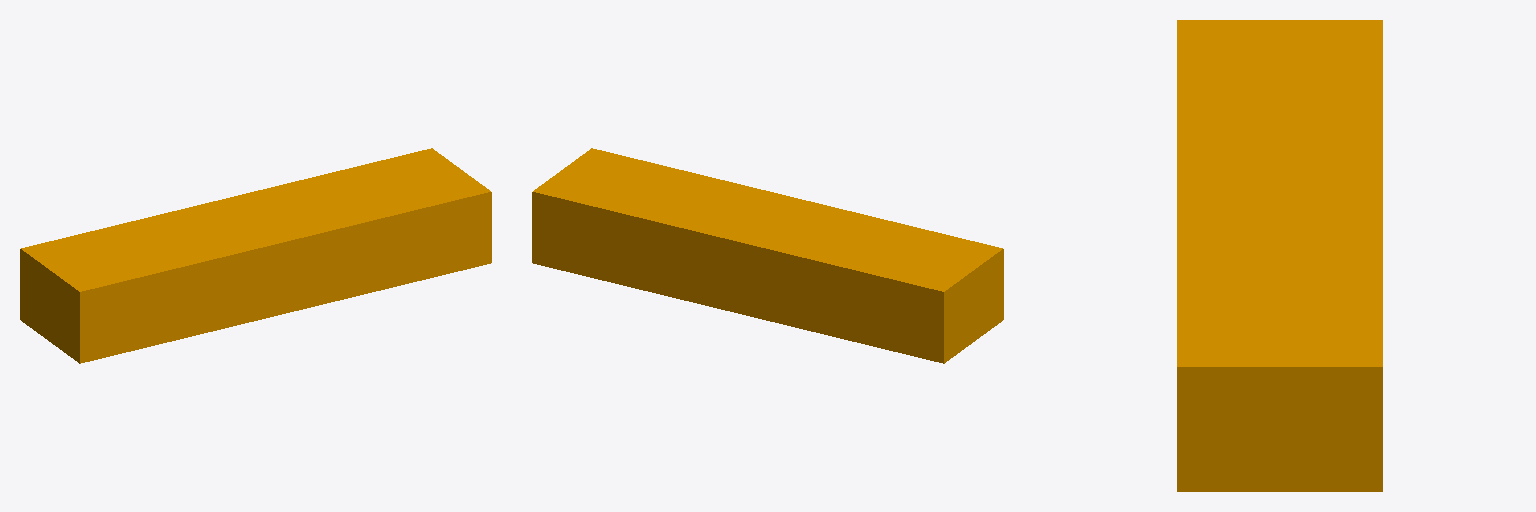
URDF robot description (candy1_model):
<robot name="candy1_model">
  <link name="candy1">
    <inertial>
      <mass value="0.1" />
      <!-- center of mass (com) is defined w.r.t. link local coordinate system -->
      <origin xyz="0 0 0.06" /> 
      <inertia  ixx="0.1" ixy="0.0"  ixz="0.0"  iyy="0.1"  iyz="0.0"  izz="0.1" />
    </inertial>
    <visual>
      <!-- visual origin is defined w.r.t. link local coordinate system -->
      <origin xyz="0 0 0.01" rpy="0 0 0" />
      <geometry>
        <box size="0.12 0.03 0.02"/>
      </geometry>
    </visual>
    <collision>
      <!-- collision origin is defined w.r.t. link local coordinate system -->
      <origin xyz="0 0 0.01" rpy="0 0 0" />
      <geometry>
        <box size="0.12 0.03 0.02"/>
      </geometry>
    </collision>
  </link>
  <gazebo reference="candy1">
    <material>Gazebo/Red</material>
    <turnGravityOff>false</turnGravityOff>
  </gazebo>
</robot>

--- Facts derived from the render (not from the file) ---
Views: 3 orthographic renders of the robot side by side, from view 1: azimuth 30°, elevation 25°; view 2: azimuth 150°, elevation 25°; view 3: azimuth 270°, elevation 25°.
Model candy1_model with 1 links and 0 joints (none), rooted at candy1, posed every joint at zero.
Links seen in each view (by area): view 1: candy1; view 2: candy1; view 3: candy1.
Boxes of the visible links, x1=… form: candy1: x1=20, y1=148, x2=491, y2=363; candy1: x1=532, y1=148, x2=1003, y2=363; candy1: x1=1177, y1=20, x2=1382, y2=491.
Bounding box of the posed robot: 0.12 × 0.03 × 0.02 m (x, y, z).
Geometry: primitives only (box / cylinder / sphere), no mesh files.